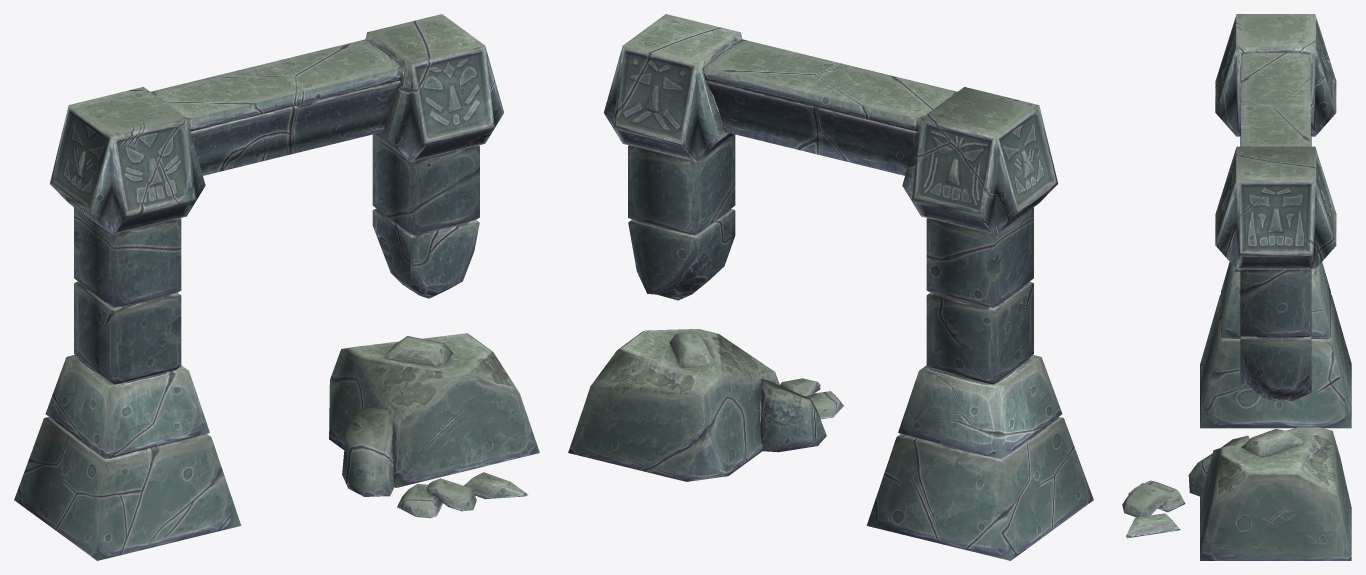
Rendered from stylized_ancient_archway.glb.
3 views of the same model, side by side, from view 1: azimuth 30°, elevation 25°; view 2: azimuth 150°, elevation 25°; view 3: azimuth 270°, elevation 25° (orthographic). The views are drawn at different scales.
Parts seen in each view (by area): view 1: pCube10; view 2: pCube10; view 3: pCube10.
Part boxes in pixels (bbox=[...]): pCube10: bbox=[14, 14, 539, 560]; pCube10: bbox=[568, 14, 1093, 560]; pCube10: bbox=[1122, 14, 1351, 560].
Bounding box in the file's own units: 4.65 × 4.04 × 2.29.
Materials: 1 (1 with a texture image).
